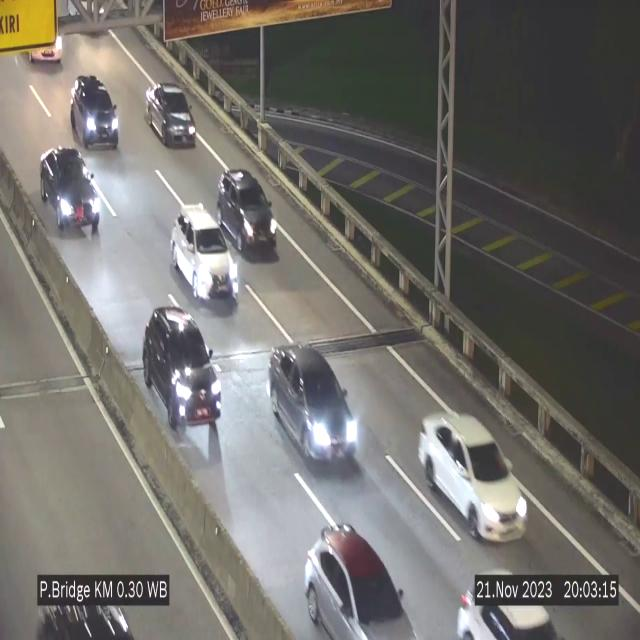Car: (419, 412, 529, 540), (304, 525, 418, 639), (268, 345, 362, 467), (140, 304, 224, 439), (445, 560, 559, 640), (37, 569, 147, 640), (170, 204, 239, 301), (39, 148, 104, 246), (217, 169, 277, 259), (71, 74, 119, 148), (145, 84, 196, 146)
